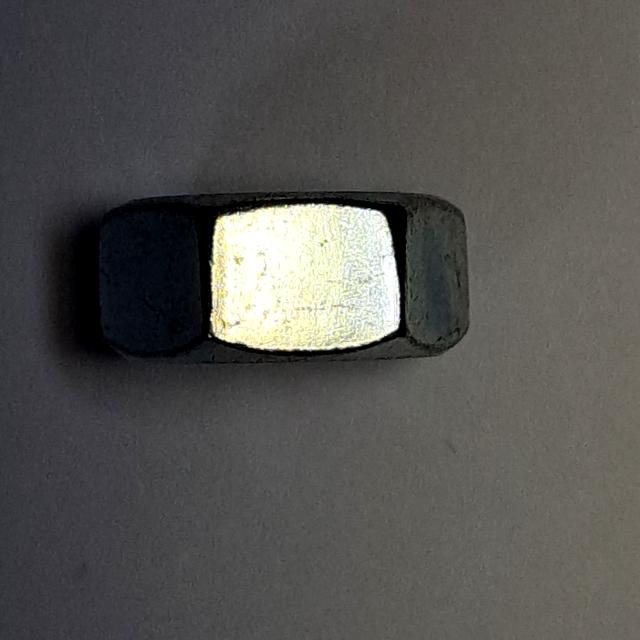Side_Excellent: (77, 171, 479, 388)
